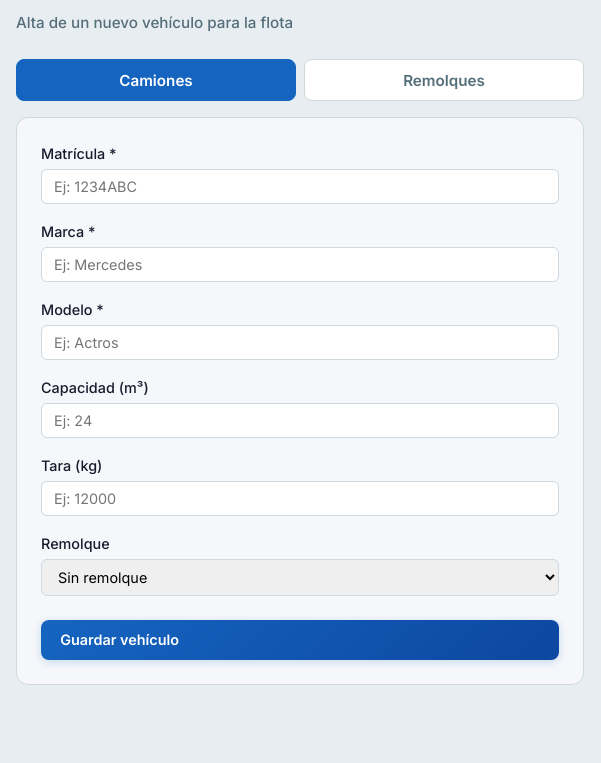
Test case: CamionFormPage › shows validation errors on empty submit
This screenshot has width=601, height=763.
Click the button "Guardar vehículo" at (120, 639), box [41,620,559,660]
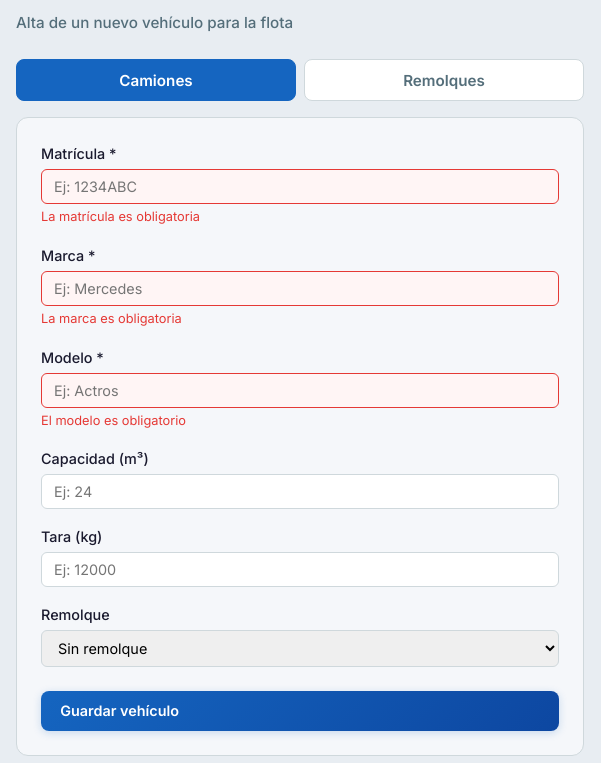
Check: the text "La matrícula es obligatoria" is shown, box [41,209,200,224]
Check: the text "La marca es obligatoria" is shown, box [41,311,182,326]
Check: the text "El modelo es obligatorio" is shown, box [41,413,186,428]
